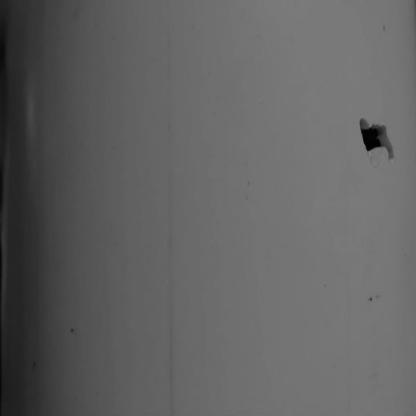kongdong: (345, 106, 411, 172)
